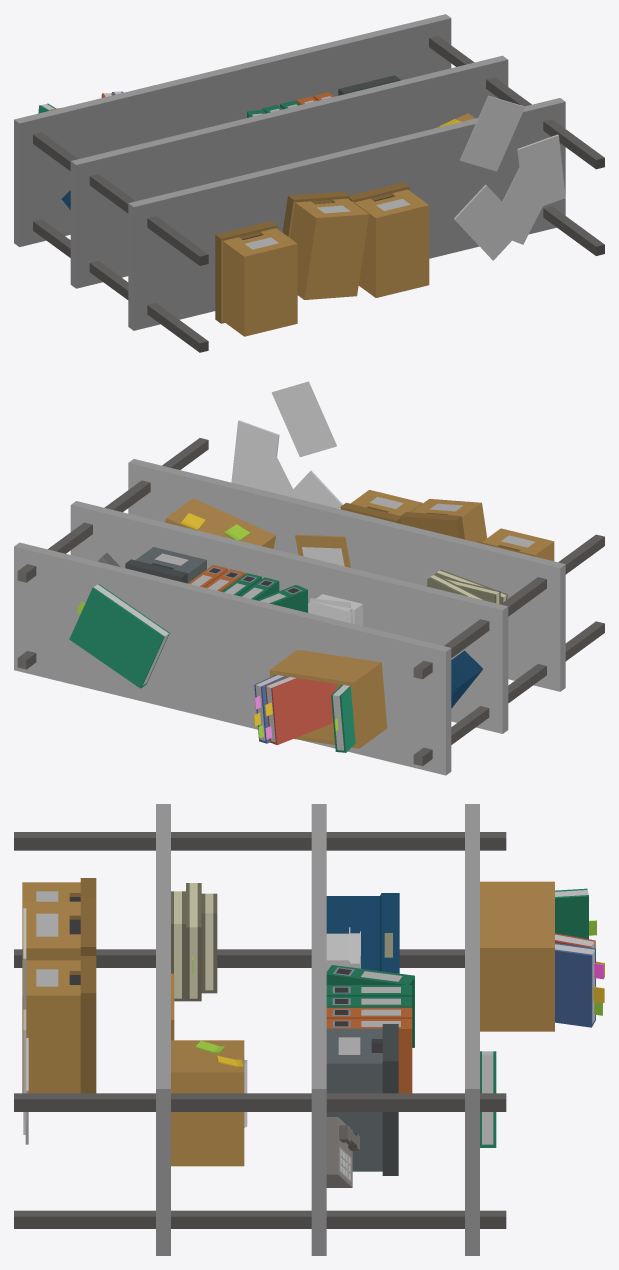
Rendered from Shelf.glb.
3 renders of one model, top to bottom at view 1: azimuth 30°, elevation 25°; view 2: azimuth 150°, elevation 25°; view 3: azimuth 270°, elevation 25°, orthographic. The views are drawn at different scales.
Parts seen in each view (by area): view 1: SO_Shelf_01; view 2: SO_Shelf_01; view 3: SO_Shelf_01.
Part boxes in pixels (<box>): SO_Shelf_01: <box>14,14,604,352</box>; SO_Shelf_01: <box>14,381,604,775</box>; SO_Shelf_01: <box>14,804,604,1255</box>.
Size of the model in its own units: 5.07 by 2.19 by 4.44.
Materials: 1 (1 with a texture image).
